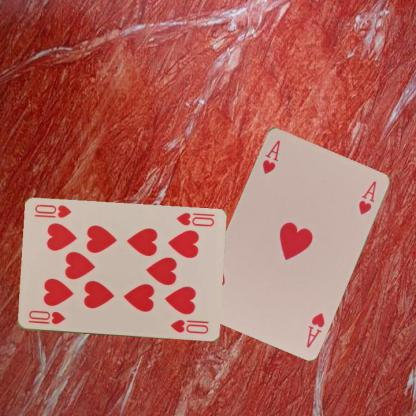10h: (173, 210, 215, 228), (25, 308, 66, 326)
Ah: (303, 309, 326, 349), (260, 137, 282, 175)
